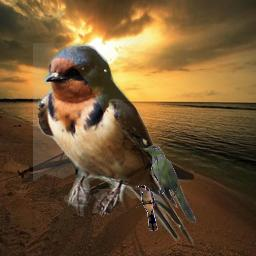Cuckoo: (143, 145, 198, 223), (135, 185, 158, 231)
Swallow: (33, 43, 194, 247)
